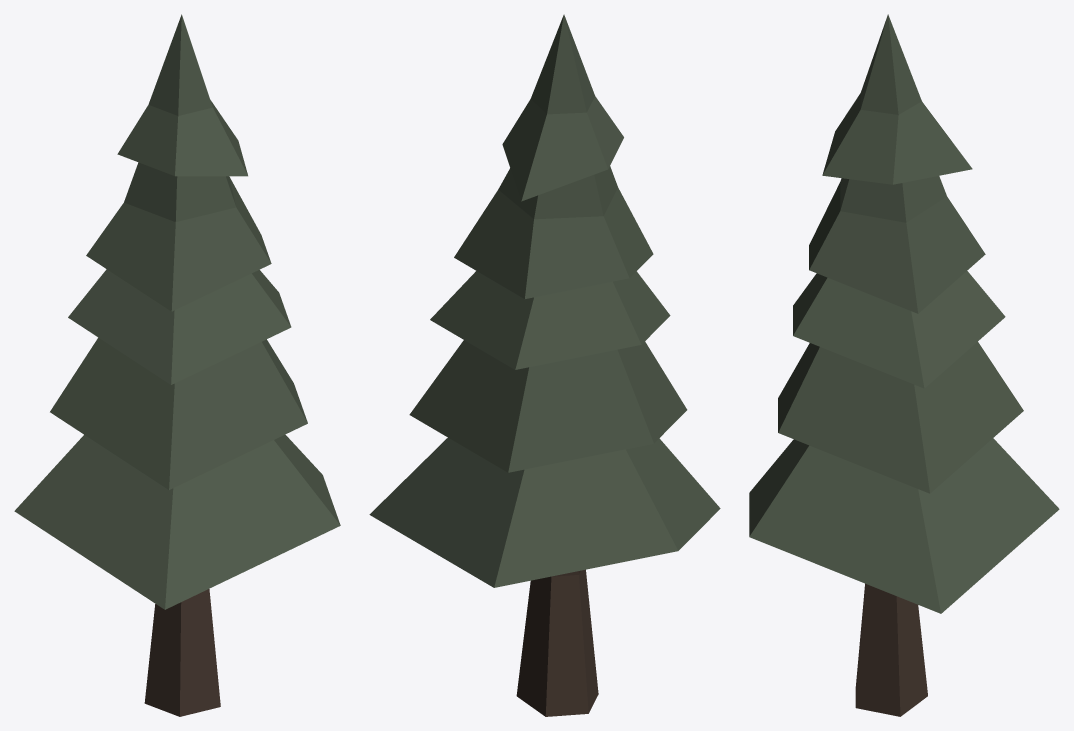
Rendered from Darkgreen_conetree1.fbx.
3 views of the same model, side by side, from view 1: azimuth 30°, elevation 25°; view 2: azimuth 150°, elevation 25°; view 3: azimuth 270°, elevation 25° (orthographic).
Parts seen in each view (by area): view 1: Darkgreen_conetree1; view 2: Darkgreen_conetree1; view 3: Darkgreen_conetree1.
Part boxes in pixels (x1,y1,x2,y2): Darkgreen_conetree1: (14,14,340,716); Darkgreen_conetree1: (369,14,720,716); Darkgreen_conetree1: (749,14,1059,716).
Bounding box in the file's own units: 648 × 1377 × 568.
